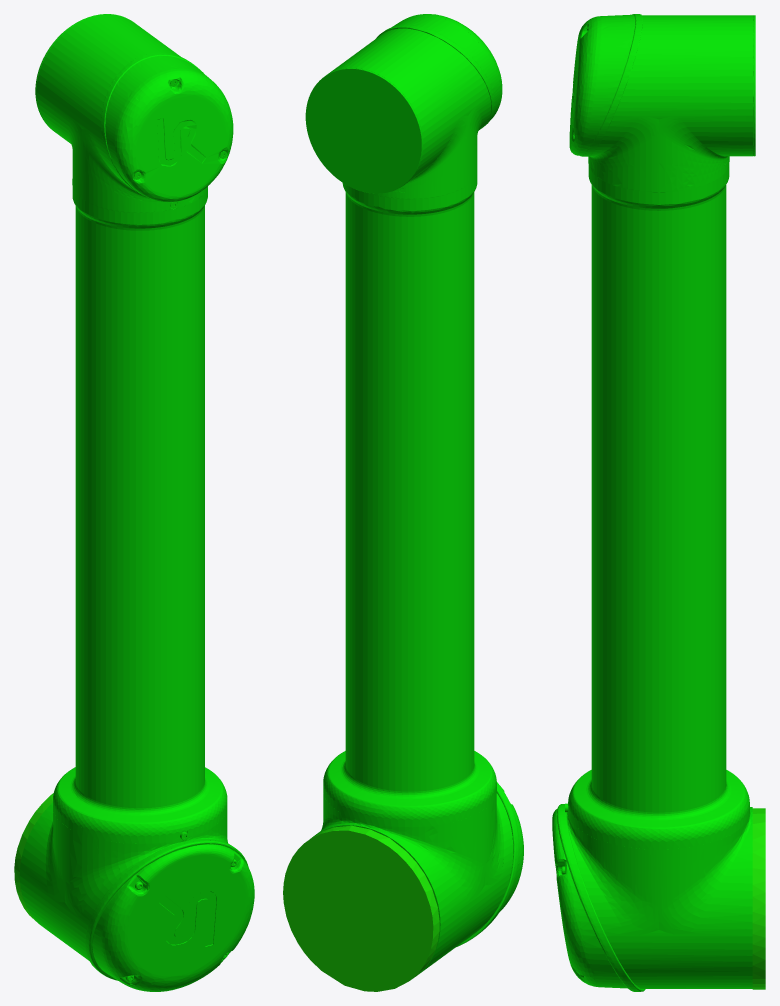
File: forearmG.dae
The picture shows the model from 3 angles, left to right: view 1: azimuth 30°, elevation 25°; view 2: azimuth 150°, elevation 25°; view 3: azimuth 270°, elevation 25°; orthographic projection. The views are drawn at different scales.
Visible parts, largest first — view 1: node-shape3-name, node-shape1-name, node-shape0-name, node-shape4-name; view 2: node-shape3-name, node-shape0-name, node-shape4-name, node-shape1-name; view 3: node-shape3-name, node-shape0-name, node-shape1-name, node-shape4-name.
Part boxes in pixels (x1,y1,x2,y2): node-shape3-name: (72,186,207,808); node-shape1-name: (85,52,254,991); node-shape0-name: (19,14,228,960); node-shape4-name: (14,793,53,923); node-shape3-name: (342,173,477,791); node-shape0-name: (305,28,513,974); node-shape4-name: (283,825,439,991); node-shape1-name: (376,14,523,946); node-shape3-name: (588,165,729,812); node-shape0-name: (567,15,755,988); node-shape1-name: (552,14,645,991); node-shape4-name: (752,808,765,989).
Bounding box in the file's own units: 0.12 × 0.1362 × 0.6776.
